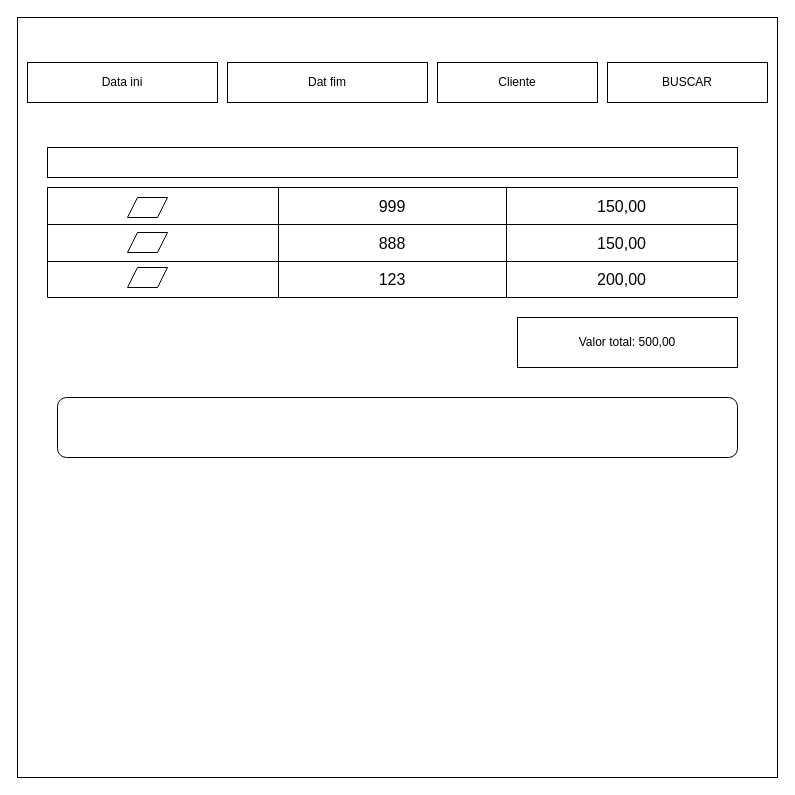
The diagram is 795 pixels wide and 795 high, and some of its shapes have lost their labels. The box of each missing label's shape, as (x1, y1, x2, y2) in pixels:
GERAR CONTA A PAGAR: (56, 396, 738, 458)
PHILLIPI VALLE DO NASCIMENTO: (46, 146, 738, 178)
